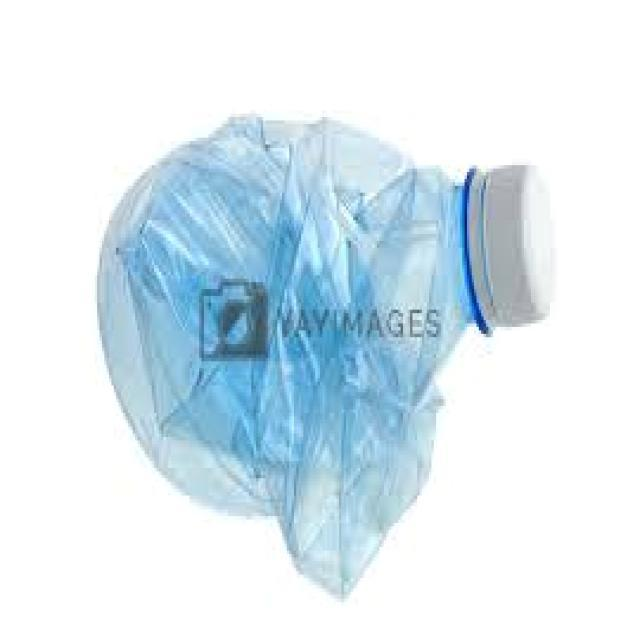BIODEGRADABLE: (80, 105, 558, 594)
